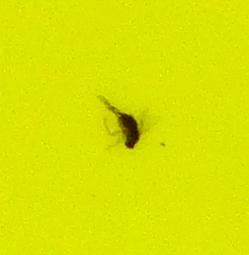Brachycera: (100, 100, 149, 155)
